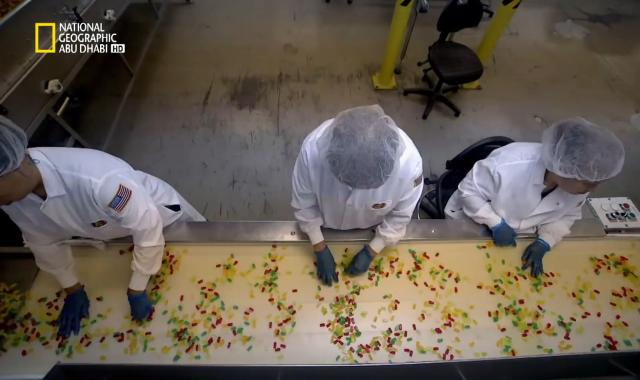hairnet: (316, 106, 405, 185), (542, 114, 627, 186), (0, 109, 34, 199)
